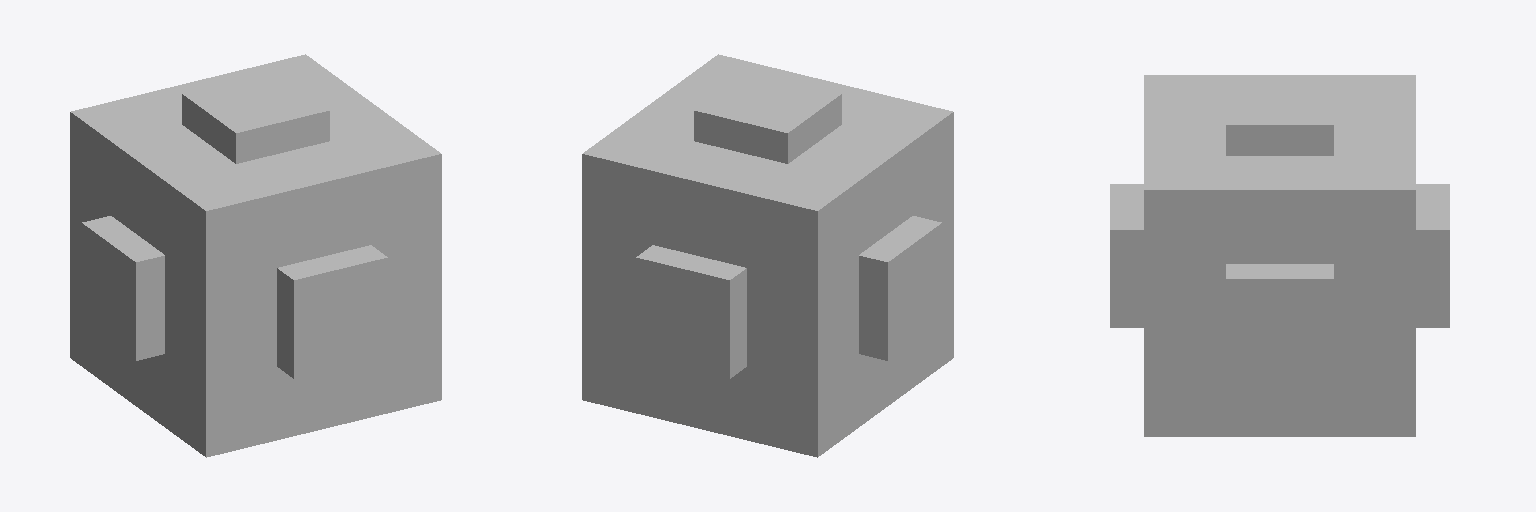
The model's file is blocka.obj.
3 renders of one model, left to right at view 1: azimuth 30°, elevation 25°; view 2: azimuth 150°, elevation 25°; view 3: azimuth 270°, elevation 25°, orthographic.
Visible parts, largest first — view 1: Mesh1 Model; view 2: Mesh1 Model; view 3: Mesh1 Model.
Part boxes in pixels (bbox=[...]): Mesh1 Model: bbox=[70, 54, 441, 457]; Mesh1 Model: bbox=[582, 54, 953, 457]; Mesh1 Model: bbox=[1110, 75, 1449, 436].
Bounding box in the file's own units: 50 × 50 × 50.